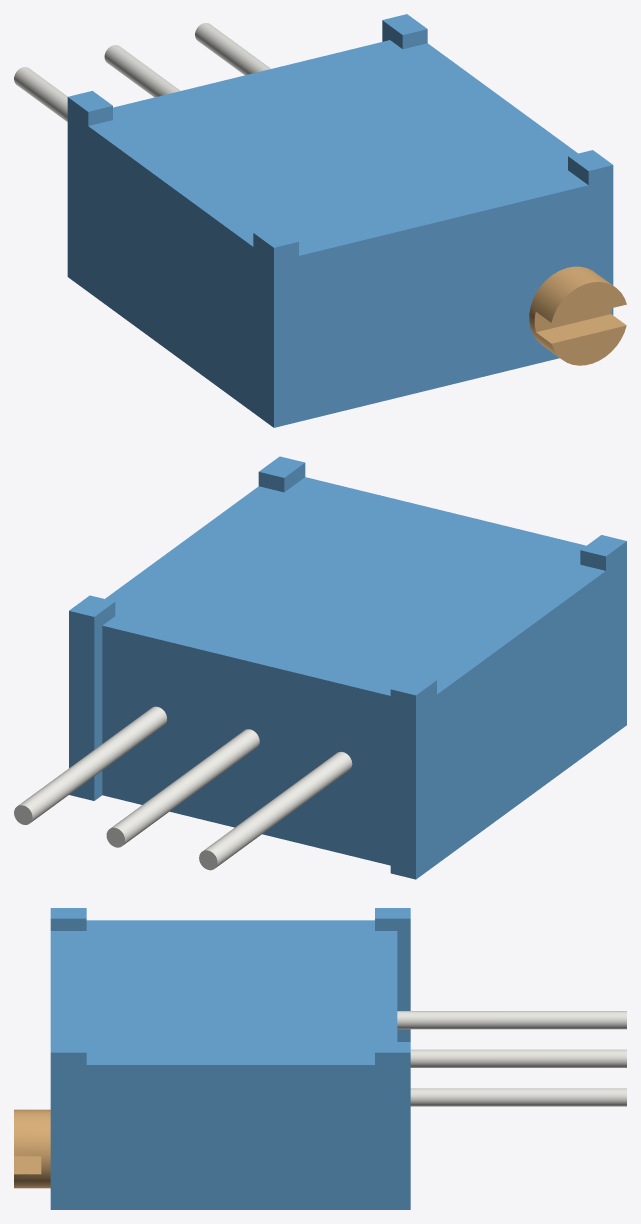
File: Potentiometer_Bourns_3296W_Vertical.glb
The picture shows the model from 3 angles, top to bottom: view 1: azimuth 30°, elevation 25°; view 2: azimuth 150°, elevation 25°; view 3: azimuth 270°, elevation 25°; orthographic projection. The views are drawn at different scales.
Visible parts, largest first — view 1: Shape_IndexedFaceSet, Shape_IndexedFaceSet.001, Shape_IndexedFaceSet.010, Shape_IndexedFaceSet.016, Shape_IndexedFaceSet.024, Shape_IndexedFaceSet.028, Shape_IndexedFaceSet.019, Shape_IndexedFaceSet.020, Shape_IndexedFaceSet.021, Shape_IndexedFaceSet.027, Shape_IndexedFaceSet.026; view 2: Shape_IndexedFaceSet, Shape_IndexedFaceSet.007, Shape_IndexedFaceSet.010, Shape_IndexedFaceSet.022, Shape_IndexedFaceSet.017, Shape_IndexedFaceSet.021, Shape_IndexedFaceSet.020, Shape_IndexedFaceSet.019, Shape_IndexedFaceSet.006; view 3: Shape_IndexedFaceSet.004, Shape_IndexedFaceSet, Shape_IndexedFaceSet.021, Shape_IndexedFaceSet.020, Shape_IndexedFaceSet.019, Shape_IndexedFaceSet.016, Shape_IndexedFaceSet.008, Shape_IndexedFaceSet.027, Shape_IndexedFaceSet.012.
Part boxes in pixels (x1,y1,x2,y2): Shape_IndexedFaceSet: (88,40,587,255); Shape_IndexedFaceSet.001: (274,165,613,427); Shape_IndexedFaceSet.010: (67,97,273,427); Shape_IndexedFaceSet.016: (529,266,614,358); Shape_IndexedFaceSet.024: (551,282,626,322); Shape_IndexedFaceSet.028: (552,325,626,365); Shape_IndexedFaceSet.019: (104,45,180,97); Shape_IndexedFaceSet.020: (195,23,270,75); Shape_IndexedFaceSet.021: (14,67,67,121); Shape_IndexedFaceSet.027: (536,314,626,343); Shape_IndexedFaceSet.026: (534,308,611,332); Shape_IndexedFaceSet: (103,477,605,695); Shape_IndexedFaceSet.007: (102,625,390,865); Shape_IndexedFaceSet.010: (416,541,626,879); Shape_IndexedFaceSet.022: (390,689,415,879); Shape_IndexedFaceSet.017: (69,611,94,800); Shape_IndexedFaceSet.021: (203,751,352,867); Shape_IndexedFaceSet.020: (18,706,166,822); Shape_IndexedFaceSet.019: (111,729,259,845); Shape_IndexedFaceSet.006: (94,602,115,800); Shape_IndexedFaceSet.004: (50,1052,410,1209); Shape_IndexedFaceSet: (50,920,397,1064); Shape_IndexedFaceSet.021: (397,1011,626,1029); Shape_IndexedFaceSet.020: (410,1088,626,1106); Shape_IndexedFaceSet.019: (410,1049,626,1067); Shape_IndexedFaceSet.016: (14,1109,50,1188); Shape_IndexedFaceSet.008: (375,918,410,1041); Shape_IndexedFaceSet.027: (14,1156,41,1174); Shape_IndexedFaceSet.012: (50,918,86,930).
Bounding box in the file's own units: 3.75 × 1.9 × 6.72.
